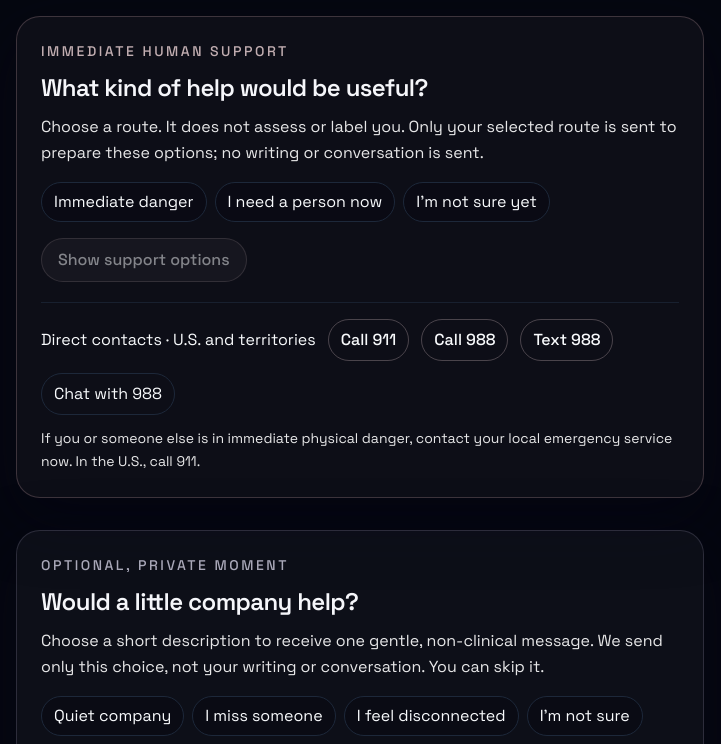
Test: SupportHubPage Sentinel safety route › keeps contact paths visible and explains when Sentinel is unavailable
The width and height of the screenshot is (721, 744).
What coordinates should you click on to do the following:
click the button "Immediate danger"
I would click on:
 (124, 202)
Its box is top-left (41, 182), bottom-right (207, 222).
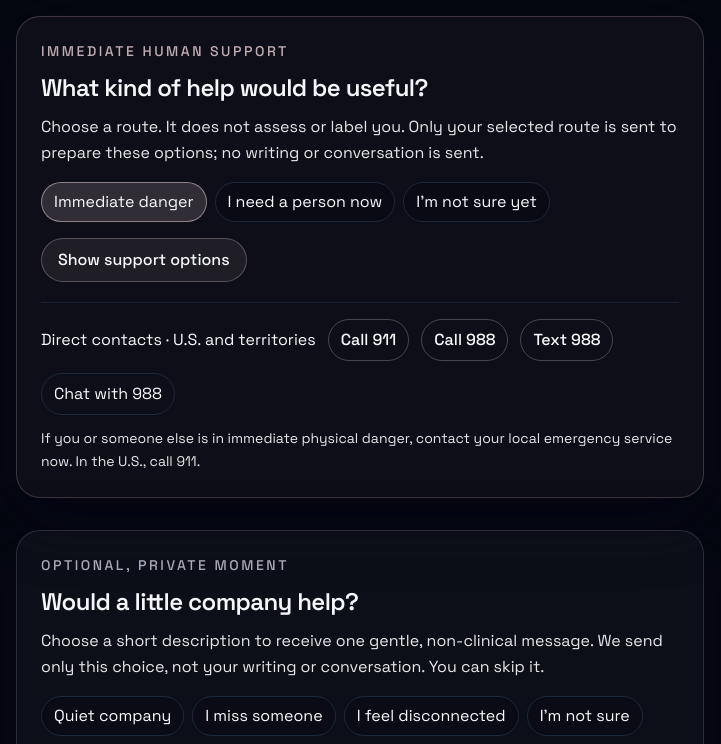
What coordinates should you click on to do the following:
click the button "Show support options"
I would click on:
 (144, 260)
Its box is top-left (41, 238), bottom-right (247, 282).
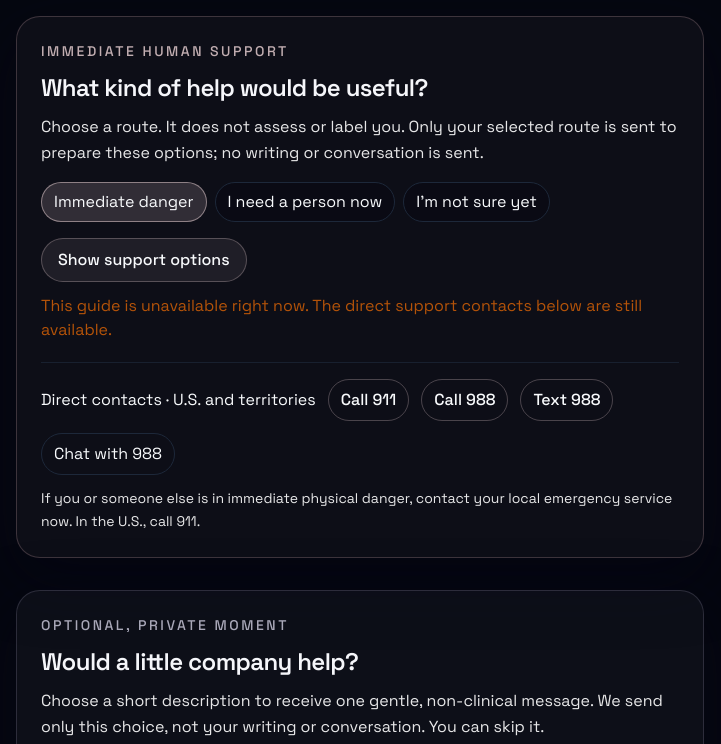
Check: the link "Call 988" is shown, box top-left (421, 379), bottom-right (508, 421)
Check: the message shows "direct support contacts below are still available", box top-left (41, 295), bottom-right (642, 340)
